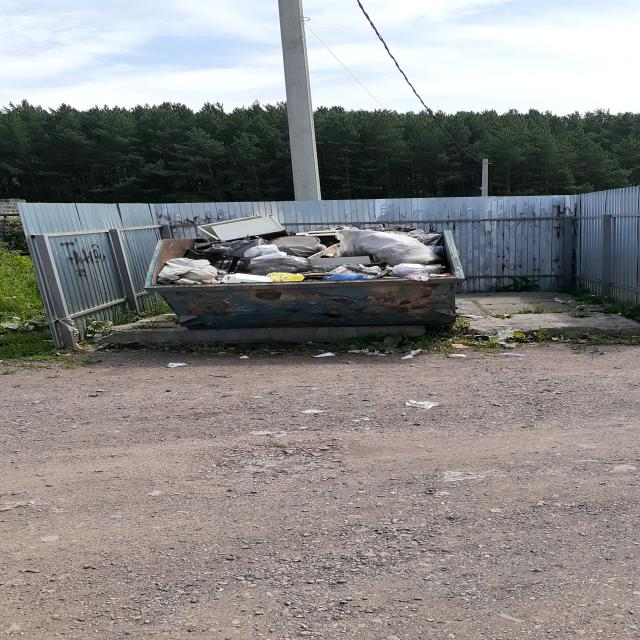bin: (141, 230, 466, 329)
plastic: (156, 218, 446, 284)
